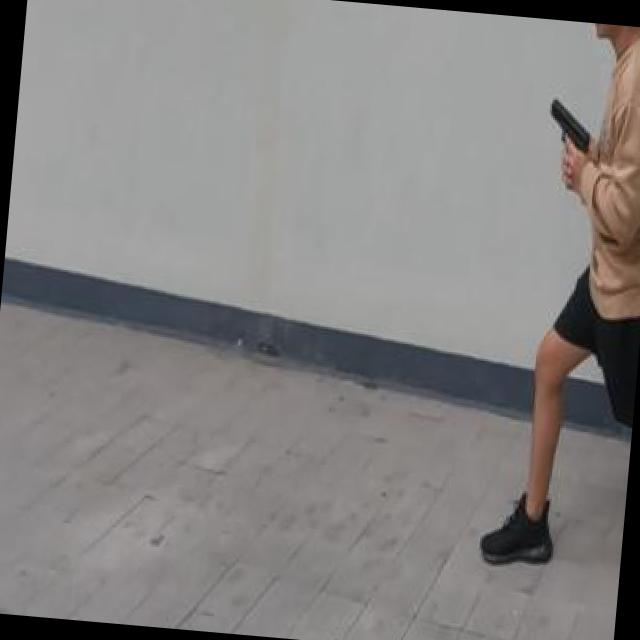Guns: (537, 88, 598, 196)
